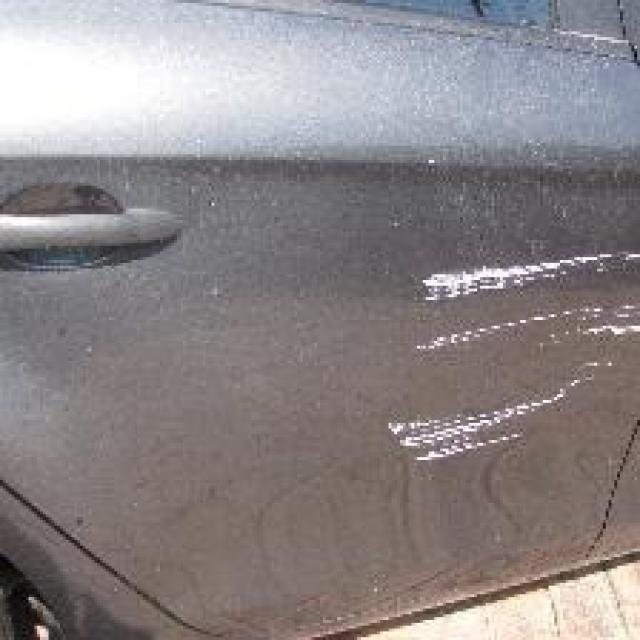damaged: (386, 248, 638, 468)
